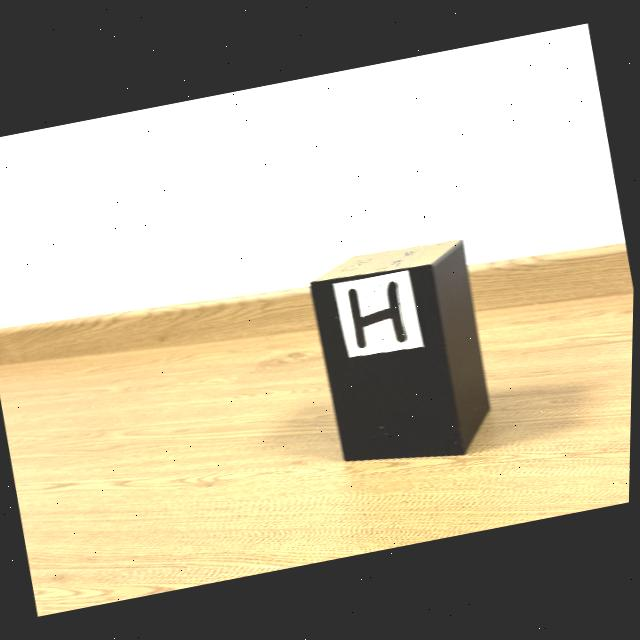H: (351, 281, 408, 348)
